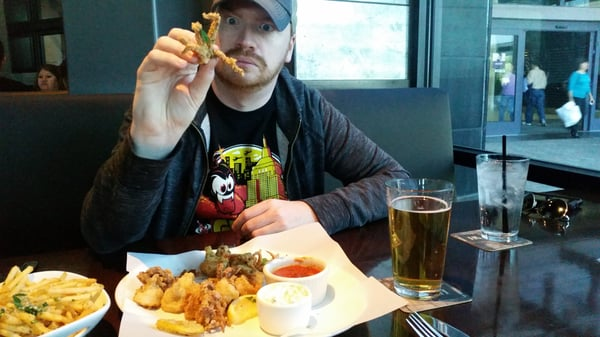pizza: (386, 180, 454, 299), (476, 153, 530, 242), (259, 254, 332, 307), (257, 281, 314, 336)
sushi: (0, 266, 111, 336), (263, 255, 331, 306)
